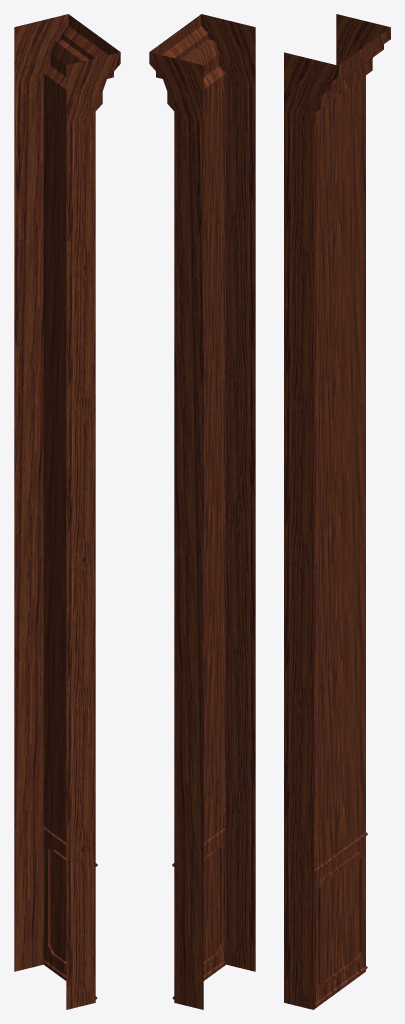
The model's file is Tiang_Lurus.fbx.
3 views of the same model, side by side, from view 1: azimuth 30°, elevation 25°; view 2: azimuth 150°, elevation 25°; view 3: azimuth 330°, elevation 25° (orthographic).
Parts seen in each view (by area): view 1: Tiang Lurus; view 2: Tiang Lurus; view 3: Tiang Lurus.
Part boxes in pixels (box(x1,y1,x2,y2)): Tiang Lurus: box(14, 14, 120, 1009); Tiang Lurus: box(149, 14, 255, 1009); Tiang Lurus: box(284, 14, 390, 1009).
Size of the model in its own units: 24 by 400 by 40.
1 material, 1 textured.
